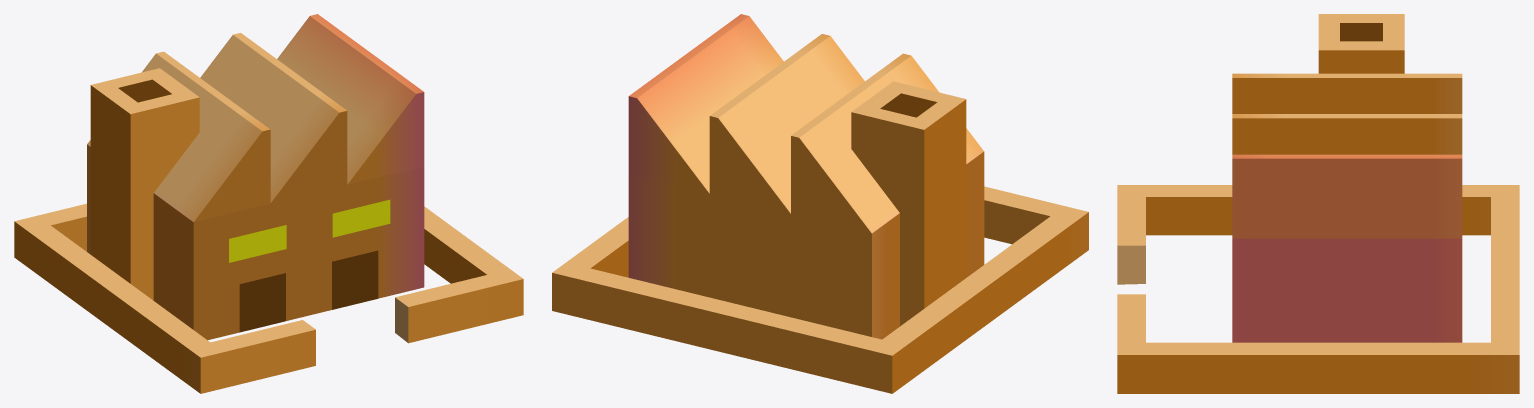
The model's file is Factory.AmberBlaze.glb.
3 renders of one model, left to right at view 1: azimuth 30°, elevation 25°; view 2: azimuth 150°, elevation 25°; view 3: azimuth 270°, elevation 25°, orthographic. The views are drawn at different scales.
Visible parts, largest first — view 1: Factory.AmberBlaze; view 2: Factory.AmberBlaze; view 3: Factory.AmberBlaze.
Part boxes in pixels (x1,y1,x2,y2): Factory.AmberBlaze: (14,14,523,393); Factory.AmberBlaze: (552,14,1088,393); Factory.AmberBlaze: (1117,14,1519,393).
Size of the model in its own units: 2.8 by 1.71 by 2.8.
2 materials, 1 textured.
